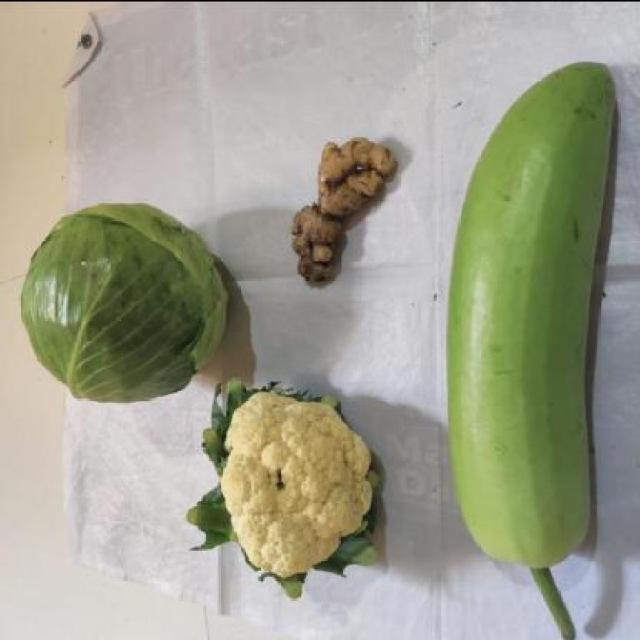Cabbage: (15, 192, 238, 412)
Calabash: (444, 51, 624, 620)
Cauliflower: (200, 380, 391, 600)
Ginger: (277, 132, 403, 294)
